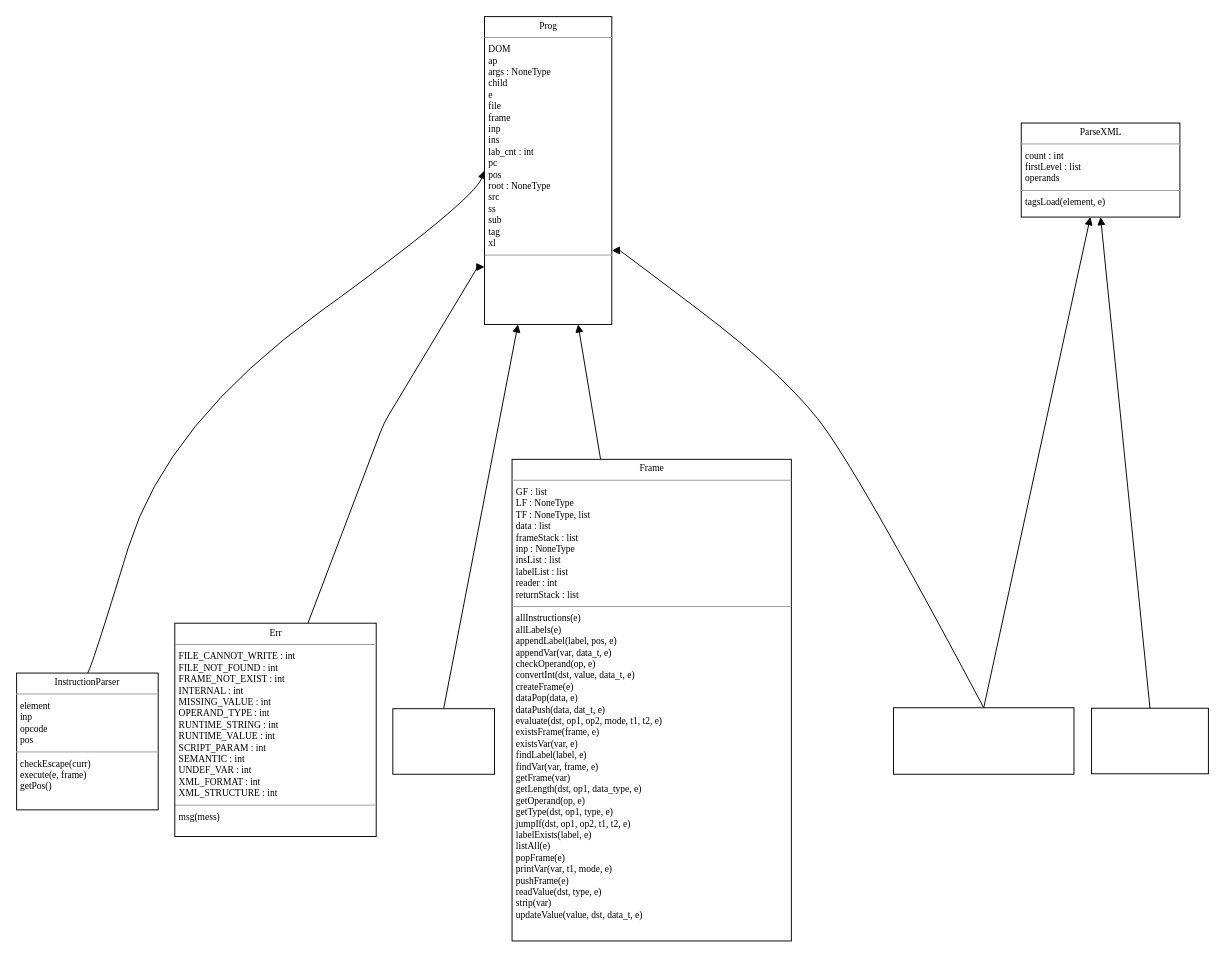
The diagram is 1226 pixels wide and 958 high, and some of its shapes have lost their labels. The shapes that lost their labels are listed below. From the top down, each one's centre as x and y in pixels, then its label:
(443,741): progCounter pc : int inc(pc)
(983,740): LoadXML processXML(element, e)
(1149,740): Operands operands : dict
